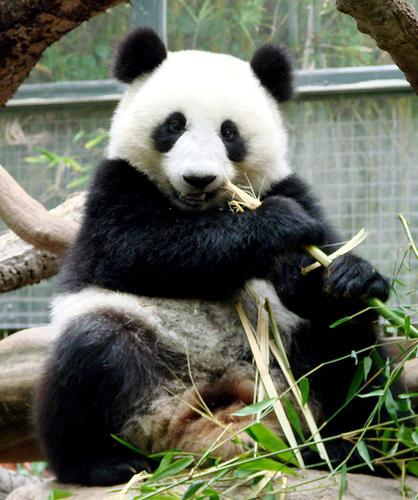panda: (0, 28, 389, 486)
